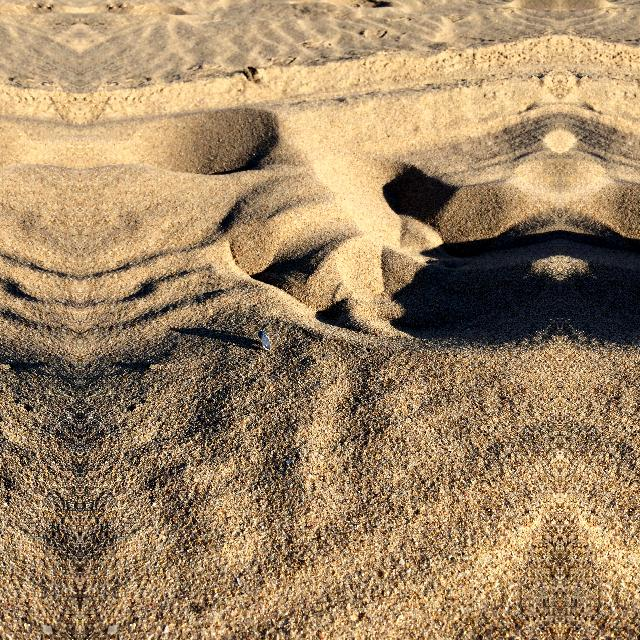Paper: (253, 326, 274, 354)
